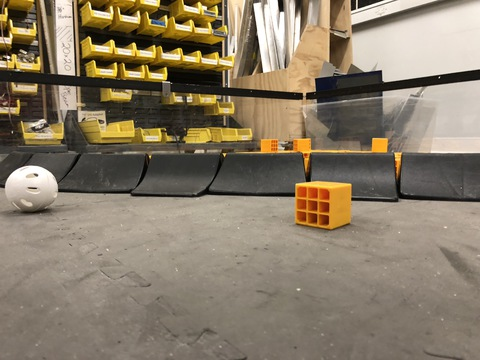ball: (2, 160, 72, 223)
block: (285, 171, 361, 244), (289, 135, 313, 155), (367, 136, 393, 154), (258, 137, 280, 154)
